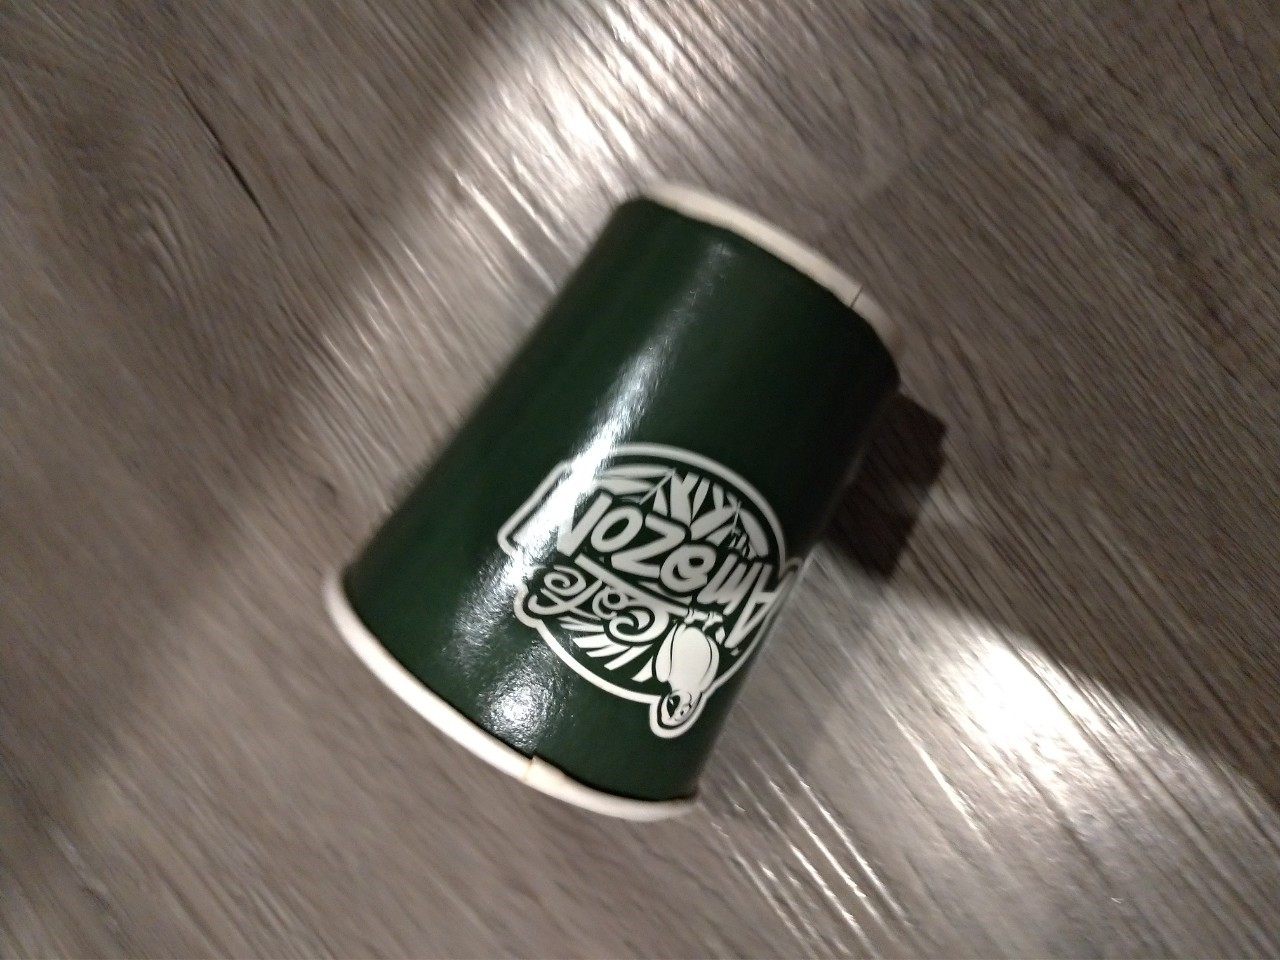PaperCup: (323, 184, 921, 818)
